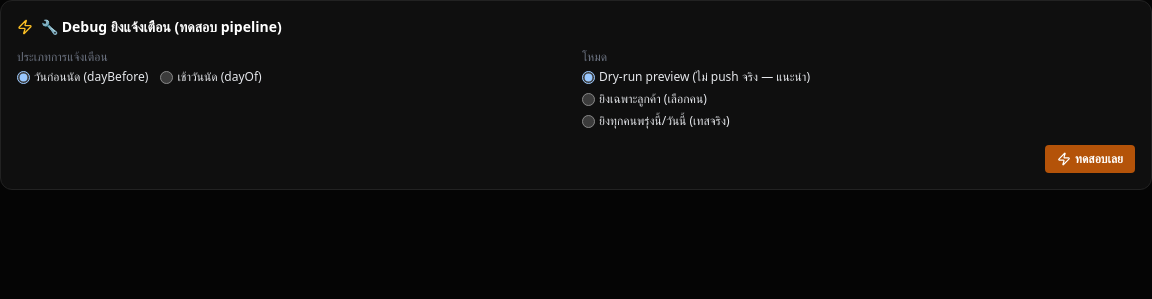
Test: V69 Bug B — UI reads result.results.{sent,skipped,failed} (not root) › B.3 dry-run response with totalEligible=2 shows eligible counter
Step 1. Click the button with test id "debug-fire-button" → (1090, 159), box [1045,145,1135,173]
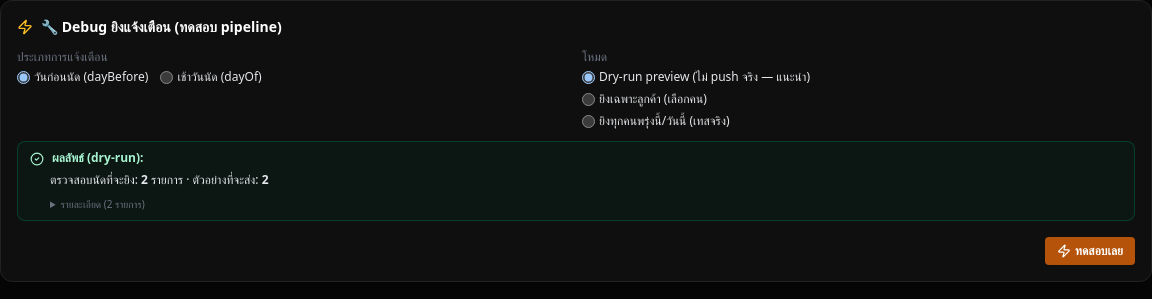
Expected: the text with test id "debug-fire-eligible" reads "2", [141,171,148,188]
